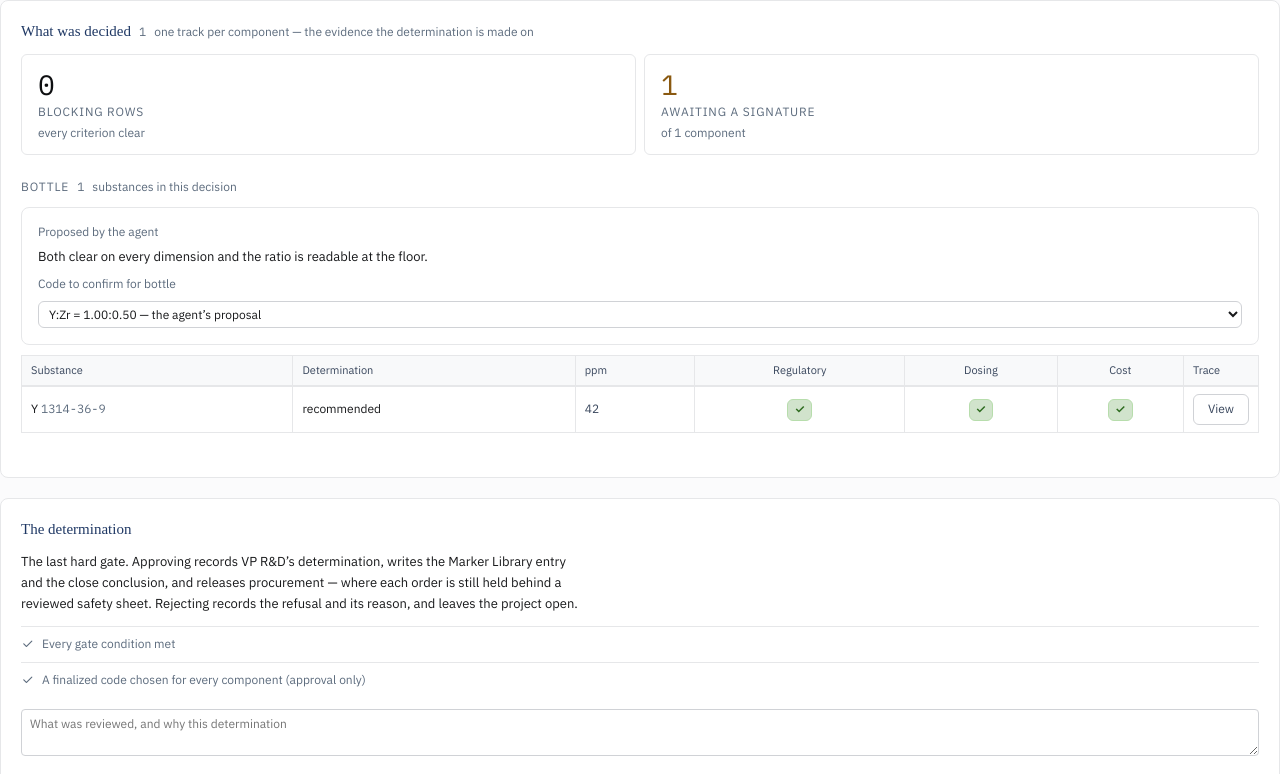
Test: Decision — arming the gate › will not record either ruling without a reason
Expected: the text "1314-36-9" is shown, [41,401,106,416]
Type "Cleared on all three criteria." into the text box named "determination note".
click(640, 732); type("Cleared on all three criteria.")  # box [21,709,1259,756]
(page scrolled)
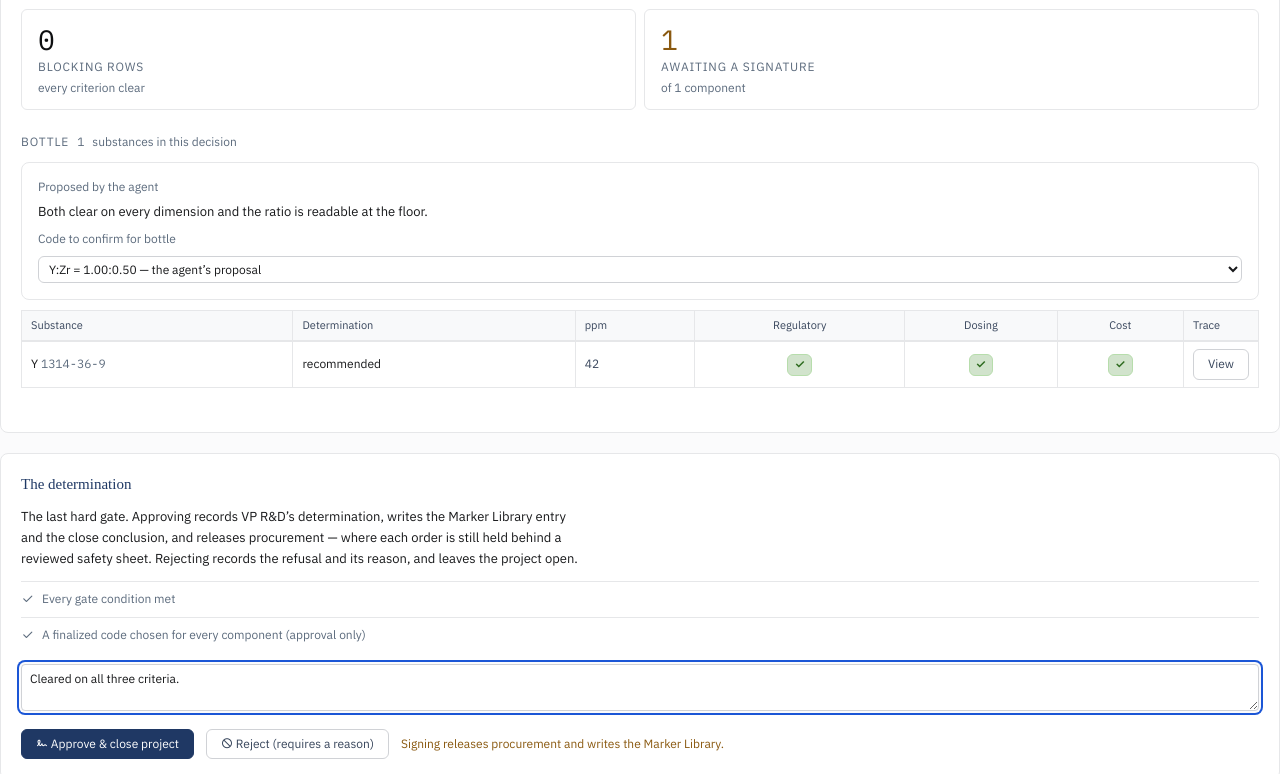
Now the button "Approve & close project" is enabled, box [21,728,194,759]
